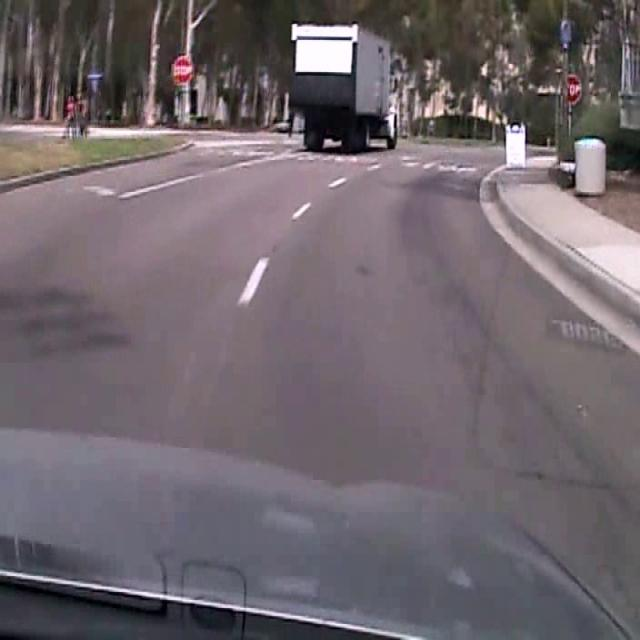stop: (562, 73, 582, 104), (173, 53, 192, 84)
